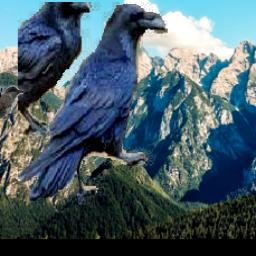Crow: (18, 3, 168, 206)
Cuckoo: (0, 85, 23, 119)
